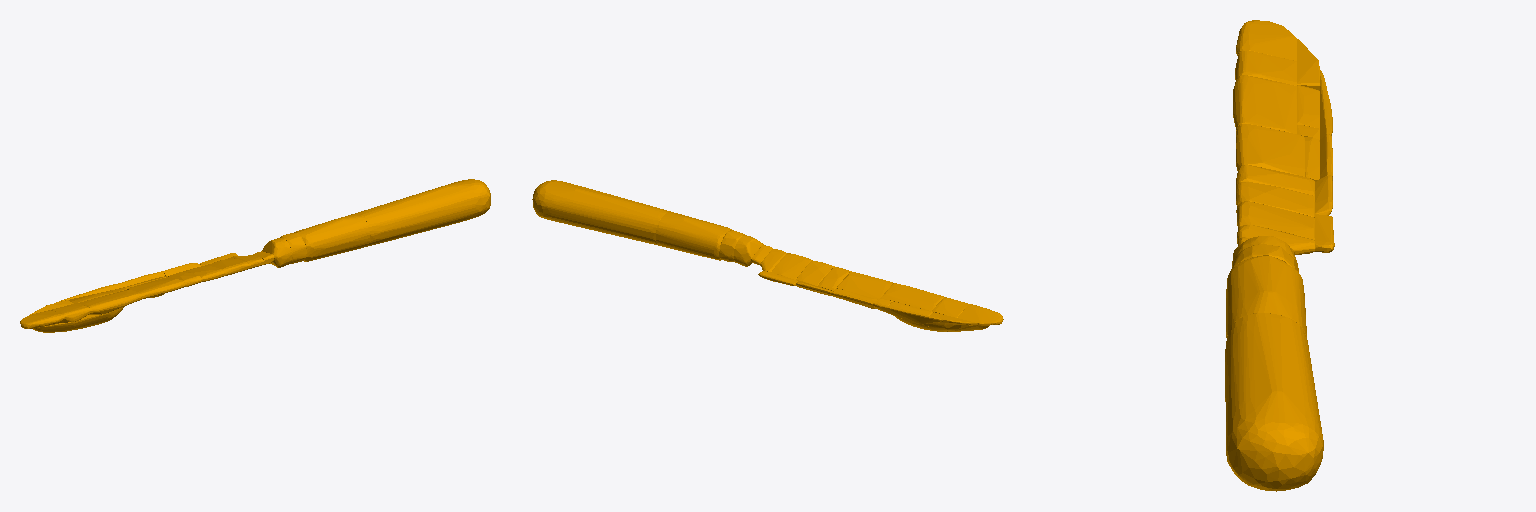
The robot description file, URDF, robot "032_knife":
<?xml version="1.0" encoding="UTF-8"?>
<robot name="032_knife">
	<link name="base">
		<collision>
			<geometry>
				<mesh filename="..\vhacd\032_knife_vhacd.obj" scale="1.0 1.0 1.0"/>
			</geometry>
			<origin xyz="0 0 0"/>
			<contact_coefficients mu="0.24" />
		</collision>
		<visual>
			<geometry>
				<mesh filename="..\vhacd\032_knife_vhacd.obj" scale="1.0 1.0 1.0"/>
			</geometry>
			<origin xyz="0 0 0"/>
		</visual>
		<inertial>
			<mass value="0"/>
			<inertia ixx="0.0" ixy="0.0" ixz="-0.0" iyy="0.0" iyz="0.0" izz="0.0" />
			<origin xyz="0.008445076345962643 -0.029092631299898374 0.00500038582736533"/>
		</inertial>
	</link>
</robot>

--- Facts derived from the render (not from the file) ---
The picture shows the robot from 3 angles, left to right: view 1: azimuth 30°, elevation 25°; view 2: azimuth 150°, elevation 25°; view 3: azimuth 270°, elevation 25°; orthographic projection.
Model 032_knife with 1 links and 0 joints (none), rooted at base, posed all joints at 0.
Visible links, largest first — view 1: base; view 2: base; view 3: base.
Boxes of the visible links, box(x1,y1,x2,y2) form: base: box(20, 179, 490, 332); base: box(532, 180, 1003, 331); base: box(1225, 20, 1334, 491).
Size in the robot's own frame: 0.215 by 0.0208 by 0.0228 metres.
1 mesh visuals loaded from 1 distinct referenced files (1 OBJ).